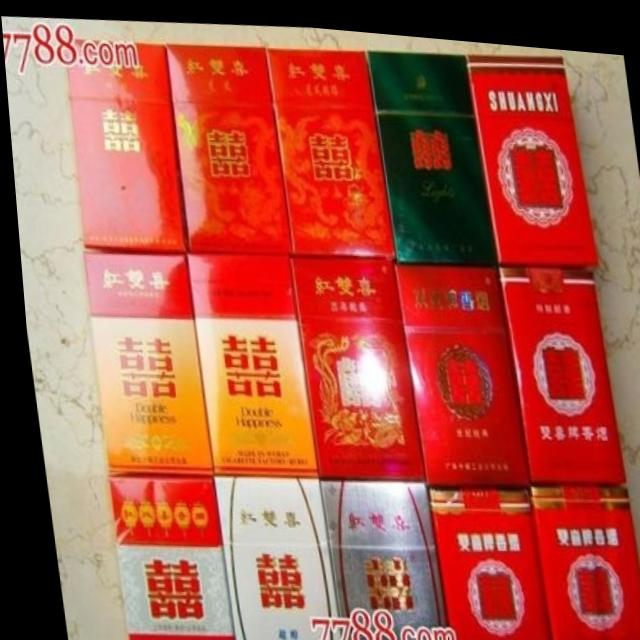box: (285, 252, 419, 476), (390, 255, 523, 478), (183, 250, 311, 472), (80, 253, 204, 472), (365, 47, 494, 255), (265, 41, 392, 252), (495, 259, 619, 475), (466, 47, 594, 255), (164, 40, 289, 250), (65, 40, 183, 248), (207, 471, 333, 640), (312, 476, 440, 640), (102, 474, 225, 640), (423, 476, 541, 640), (526, 478, 640, 640)
